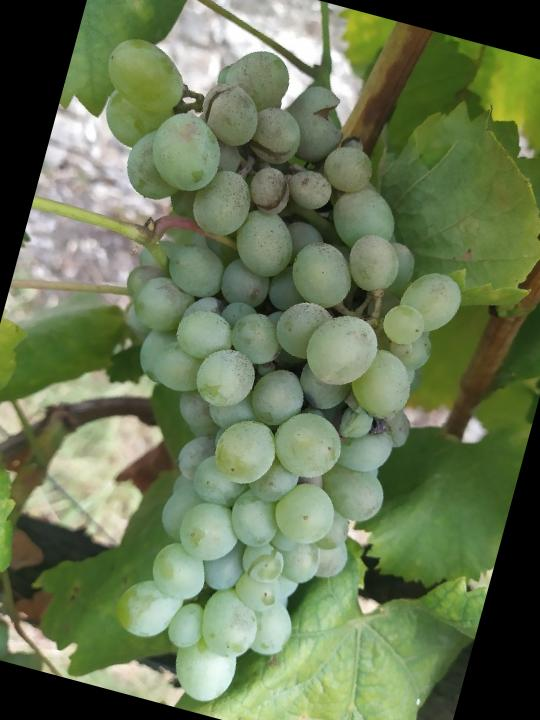grape: (0, 9, 514, 720)
